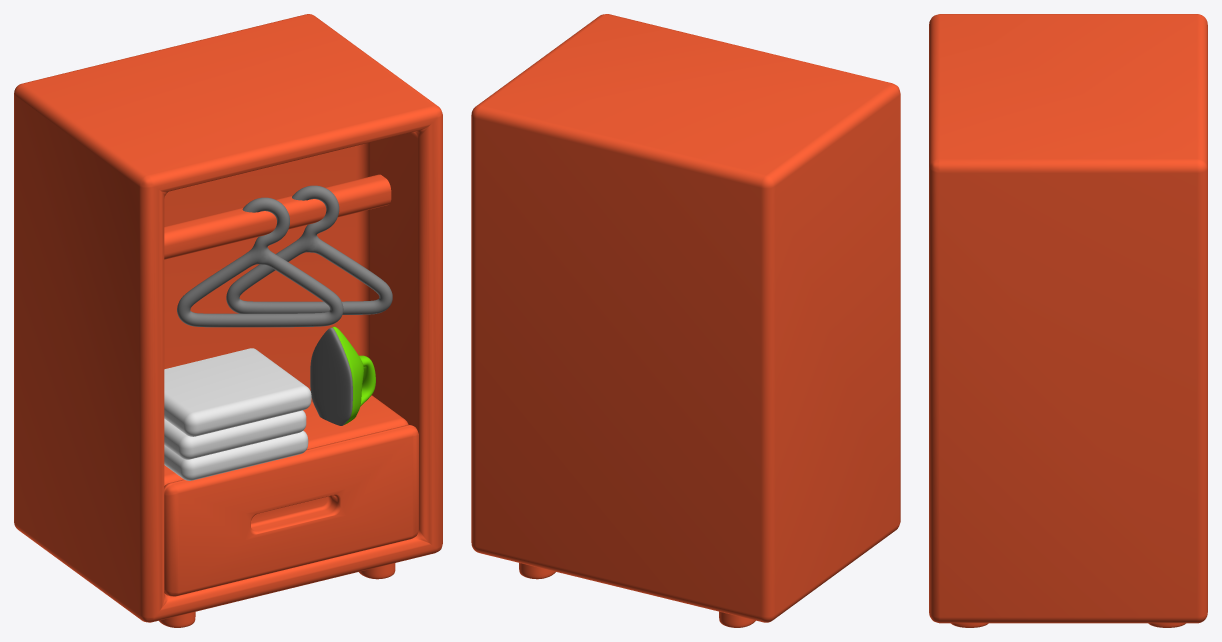
The model's file is Wardrobe.gltf.
3 renders of one model, left to right at view 1: azimuth 30°, elevation 25°; view 2: azimuth 150°, elevation 25°; view 3: azimuth 270°, elevation 25°, orthographic. The views are drawn at different scales.
Visible parts, largest first — view 1: Cube.033, Cube.036, Cube.037, Cube.035, Plane.011, Plane.010, Plane.012, Cube.034; view 2: Cube.033, Cube.034; view 3: Cube.033.
Part boxes in pixels (bbox=[...]): Cube.033: bbox=[14, 14, 442, 622]; Cube.036: bbox=[164, 425, 418, 596]; Cube.037: bbox=[164, 348, 311, 480]; Cube.035: bbox=[164, 174, 391, 259]; Plane.011: bbox=[177, 197, 343, 327]; Plane.010: bbox=[226, 185, 392, 314]; Plane.012: bbox=[310, 326, 375, 425]; Cube.034: bbox=[159, 563, 395, 627]; Cube.033: bbox=[471, 14, 900, 622]; Cube.034: bbox=[519, 563, 755, 627]; Cube.033: bbox=[929, 14, 1207, 623].
Bounding box in the file's own units: 1.71 × 2.52 × 1.32.
